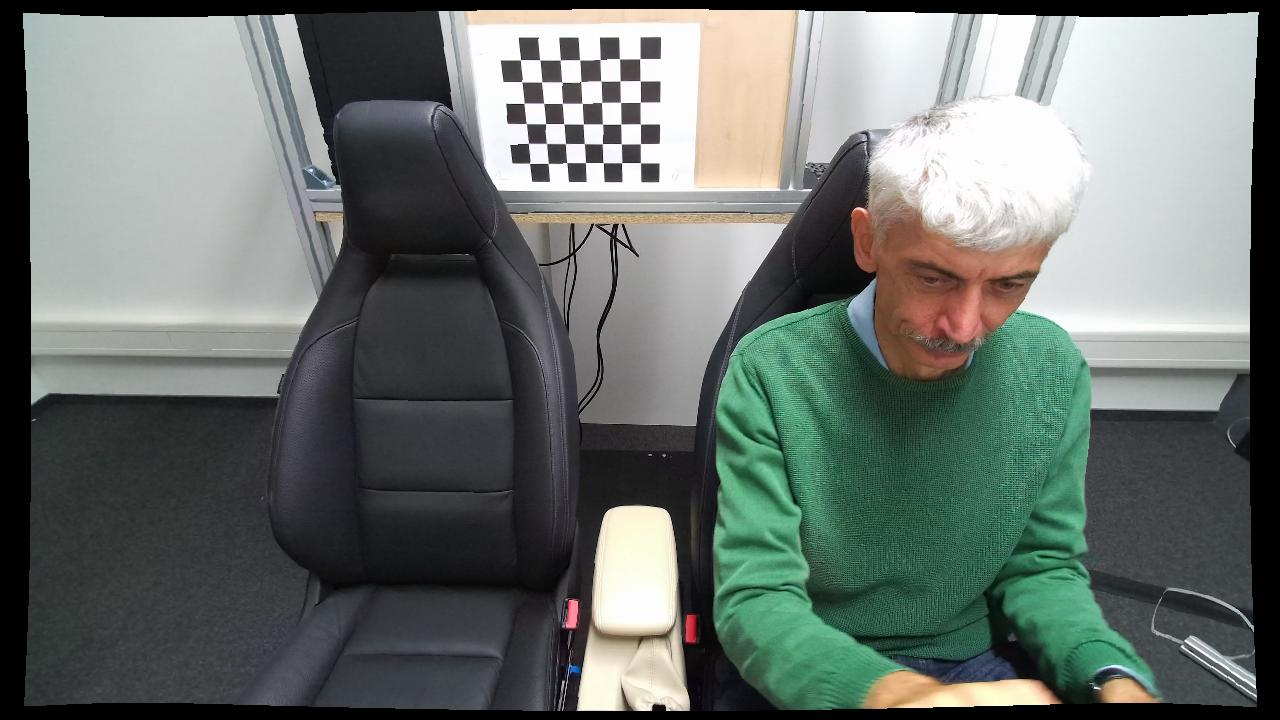SafeDriving: (686, 92, 1170, 702)
